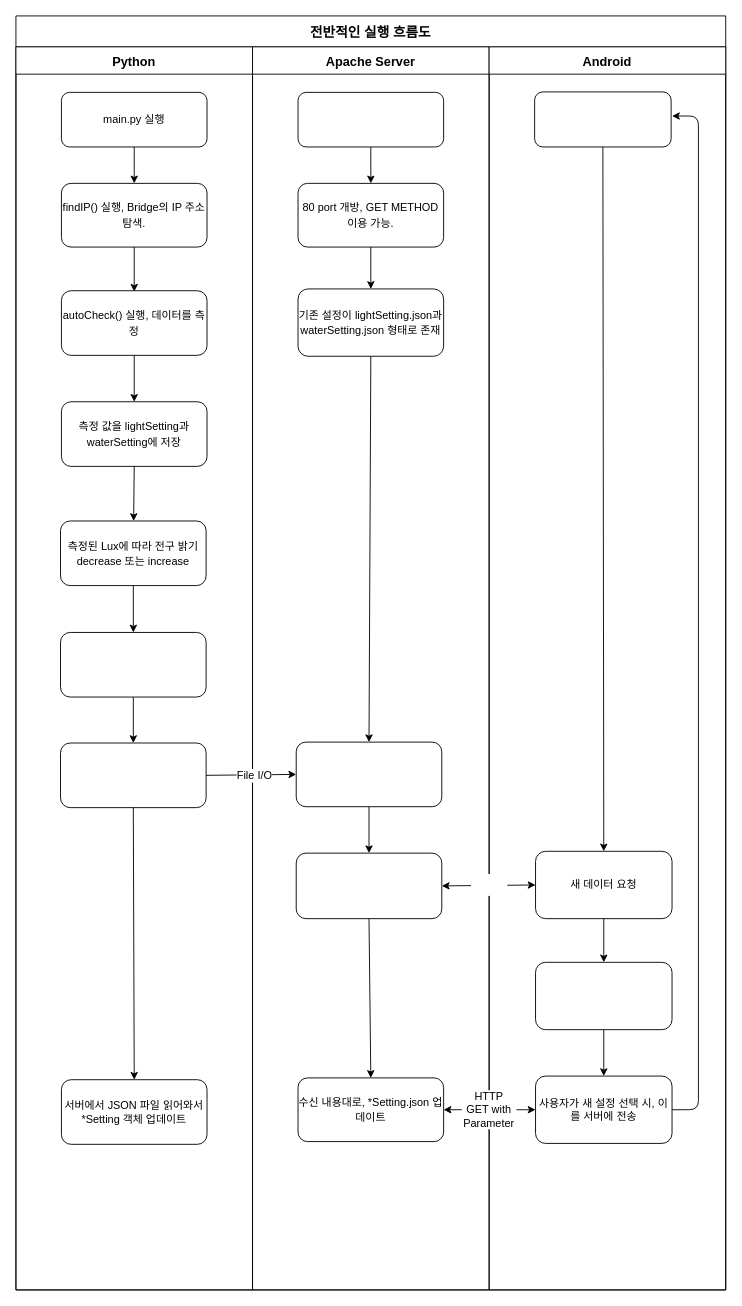
Some shapes in this 742 by 1306 pixel diagram are drawn without their labels. Each missing label, with the centre of its shape:
"*Setting.json에 대한 GET request가 있을 시 이를 반환" belongs at (x=368, y=885).
"HTTP GET Request" belongs at (x=488, y=884).
"마지막 데이터를 기준으로 UI 그리기" belongs at (x=602, y=119).
"바뀐 동작 상태를 서버에 저장" belongs at (x=133, y=775).
"부팅 시 자동 실행, CGI 허용." belongs at (x=370, y=119).
"새 데이터 저장 & UI 다시 그리기" belongs at (x=603, y=995).
"측정 값과 새 상태로 lightSetting.json과 waterSetting.json 업데이트" belongs at (x=368, y=774).
"측정된 습도에 따라 펌프 ON 또는 OFF" belongs at (x=133, y=664).
